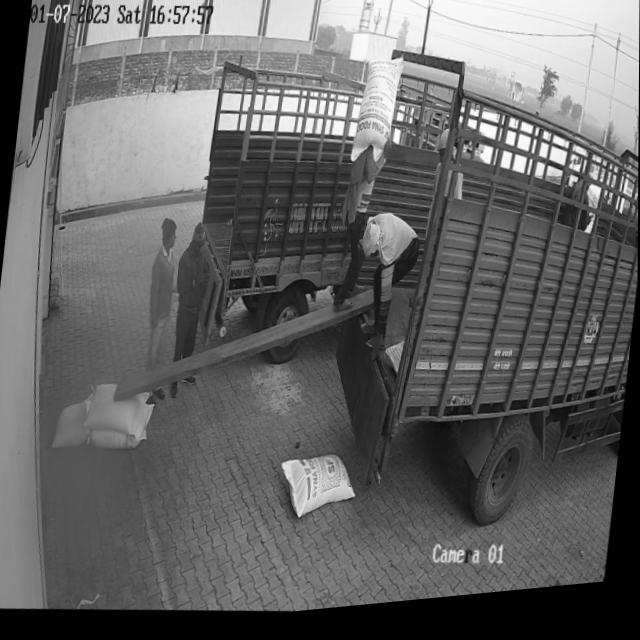sack: (276, 452, 360, 530), (349, 59, 404, 173), (82, 380, 155, 445), (50, 397, 95, 456), (85, 421, 148, 457)
